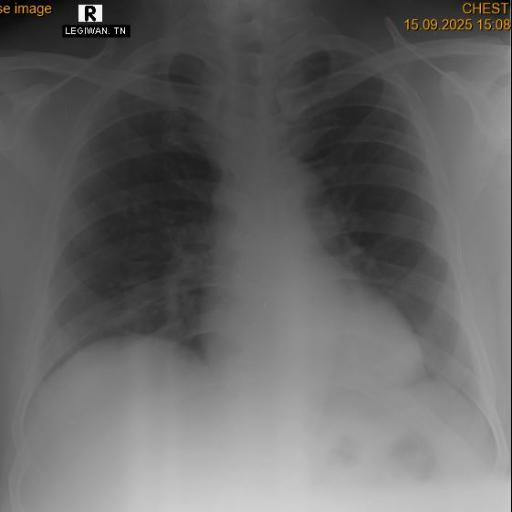kardiomegali: (14, 19, 501, 463)
